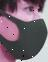with_mask: (2, 2, 48, 62)
